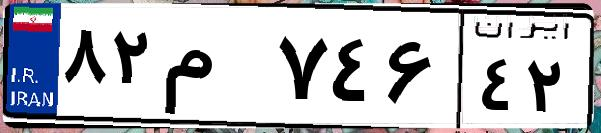2: (525, 38, 570, 115), (110, 28, 158, 98)
4: (330, 28, 385, 110), (475, 38, 525, 113)
6: (385, 28, 445, 110)
7: (270, 28, 330, 110)
8: (57, 26, 110, 100)
م: (158, 20, 270, 120)
